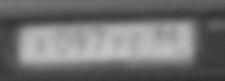license-plateSW: (24, 20, 193, 65)
